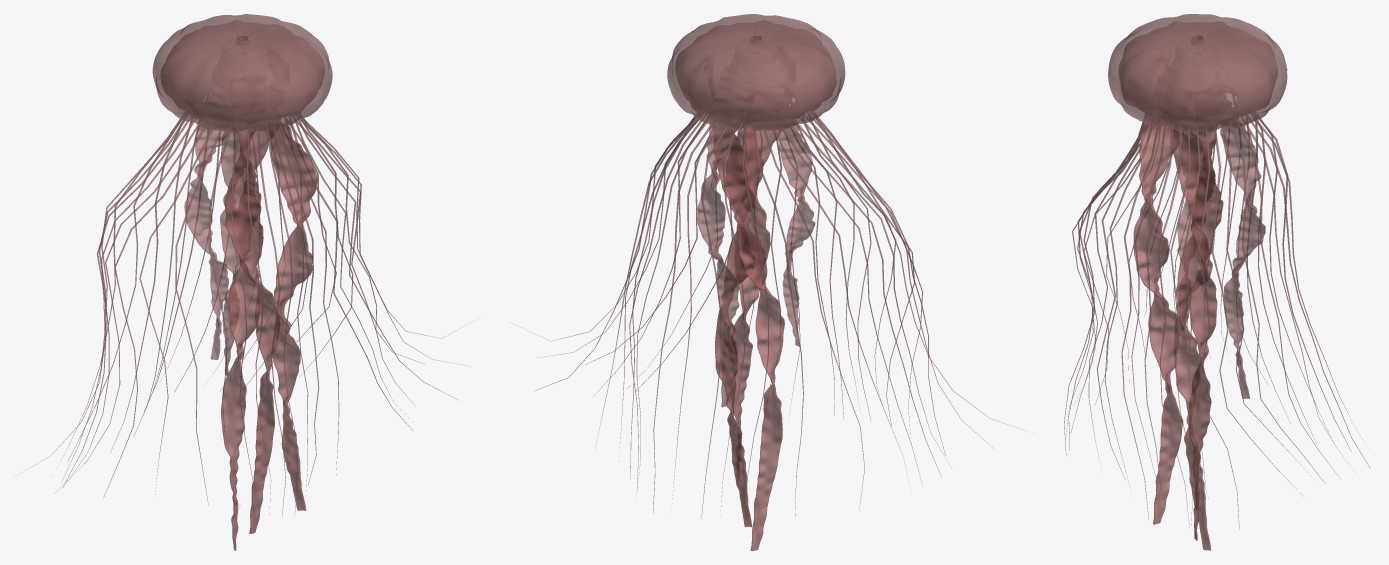
Rendered from JellyFish.fbx.
The picture shows the model from 3 angles, left to right: view 1: azimuth 30°, elevation 25°; view 2: azimuth 150°, elevation 25°; view 3: azimuth 270°, elevation 25°; orthographic projection.
Visible parts, largest first — view 1: JellyFish; view 2: JellyFish; view 3: JellyFish.
Boxes of the visible parts, <box> form: JellyFish: <box>15,14,480,550</box>; JellyFish: <box>514,14,1024,550</box>; JellyFish: <box>1064,14,1370,550</box>.
Bounding box in the file's own units: 4884 × 4822 × 2634.
